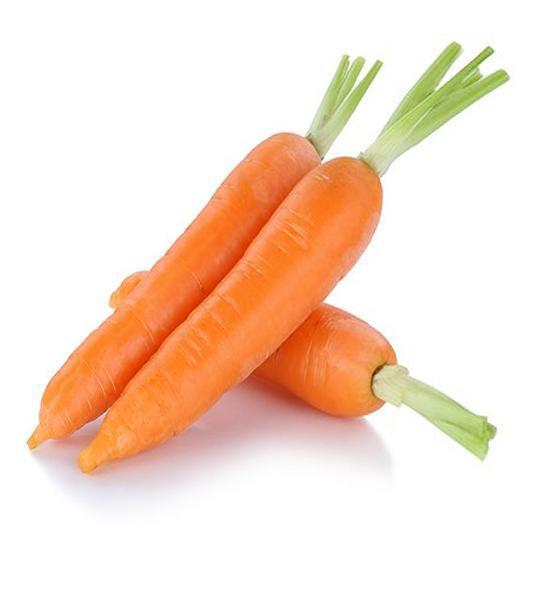carrot: (13, 128, 385, 459)
